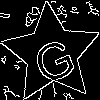G: (26, 28, 79, 87)
